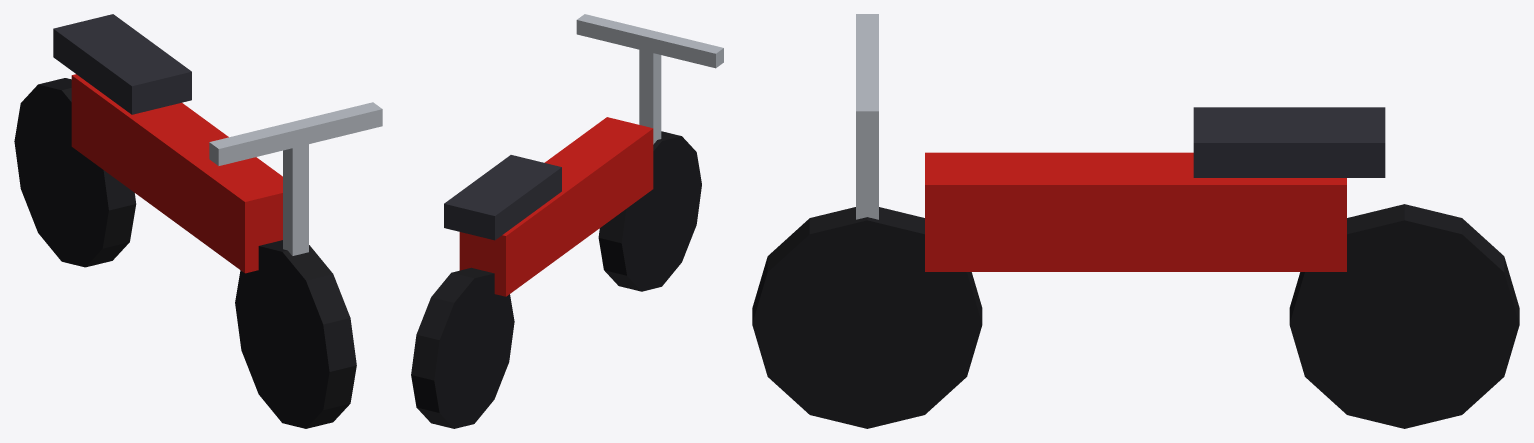
The model's file is garage_motorcycle.glb.
The picture shows the model from 3 angles, left to right: view 1: azimuth 30°, elevation 25°; view 2: azimuth 150°, elevation 25°; view 3: azimuth 270°, elevation 25°; orthographic projection. The views are drawn at different scales.
Parts seen in each view (by area): view 1: motorcycle; view 2: motorcycle; view 3: motorcycle.
Boxes of the visible parts, bbox=[...] form: motorcycle: bbox=[14, 14, 382, 428]; motorcycle: bbox=[411, 14, 723, 428]; motorcycle: bbox=[752, 14, 1519, 428].
Size of the model in its own units: 0.6 by 1.03 by 2.
